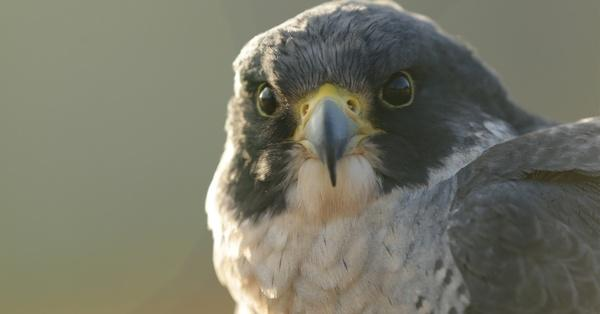Pengoyak Daging: (296, 92, 365, 191)
